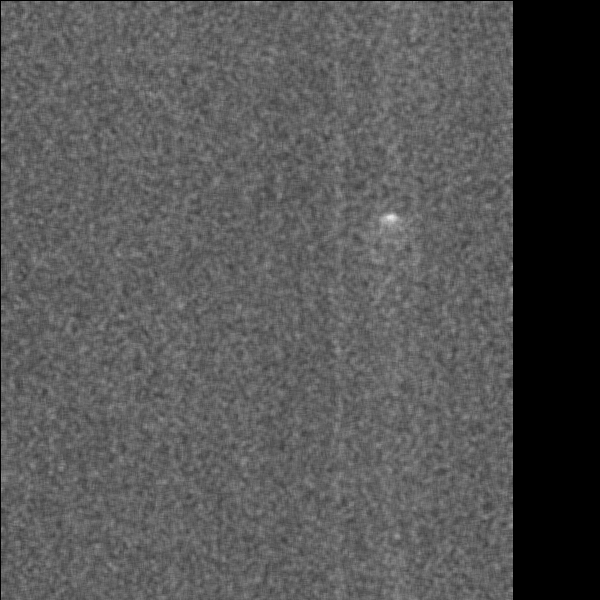spark: (235, 550, 266, 593)
